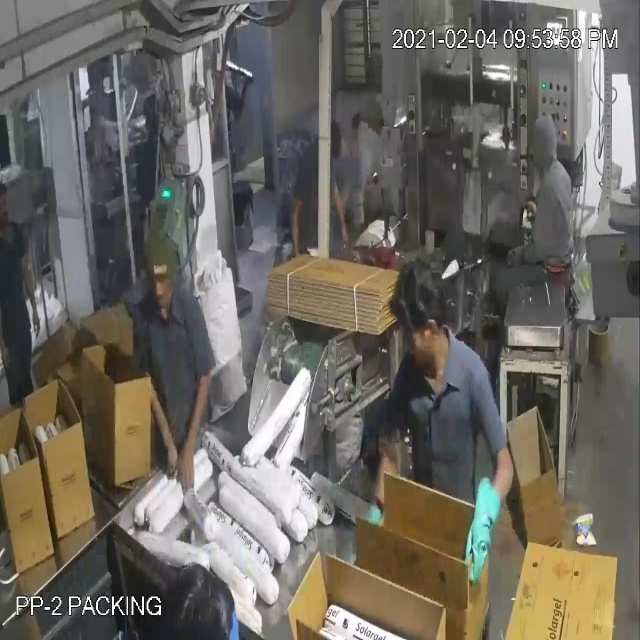Guantes: (459, 467, 505, 607)
Sin_guantes: (127, 348, 180, 484), (178, 356, 213, 502), (327, 160, 352, 253), (289, 180, 312, 271)
